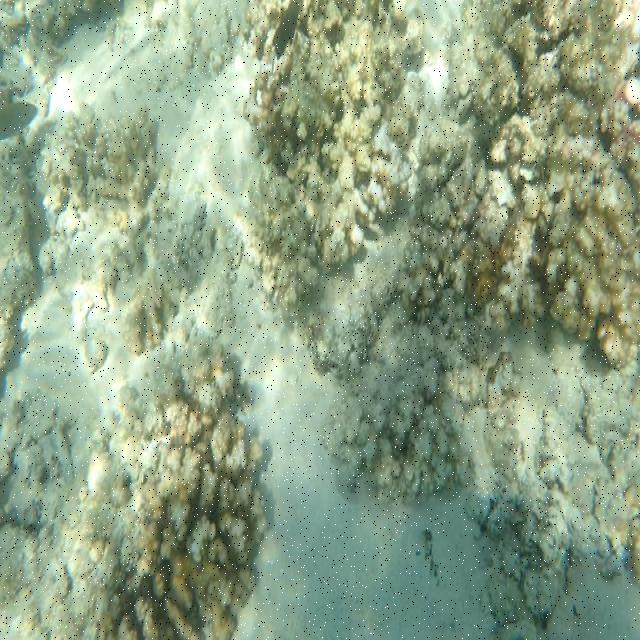reefs: (313, 0, 639, 505), (0, 337, 268, 639), (238, 1, 425, 319), (40, 102, 180, 238)
